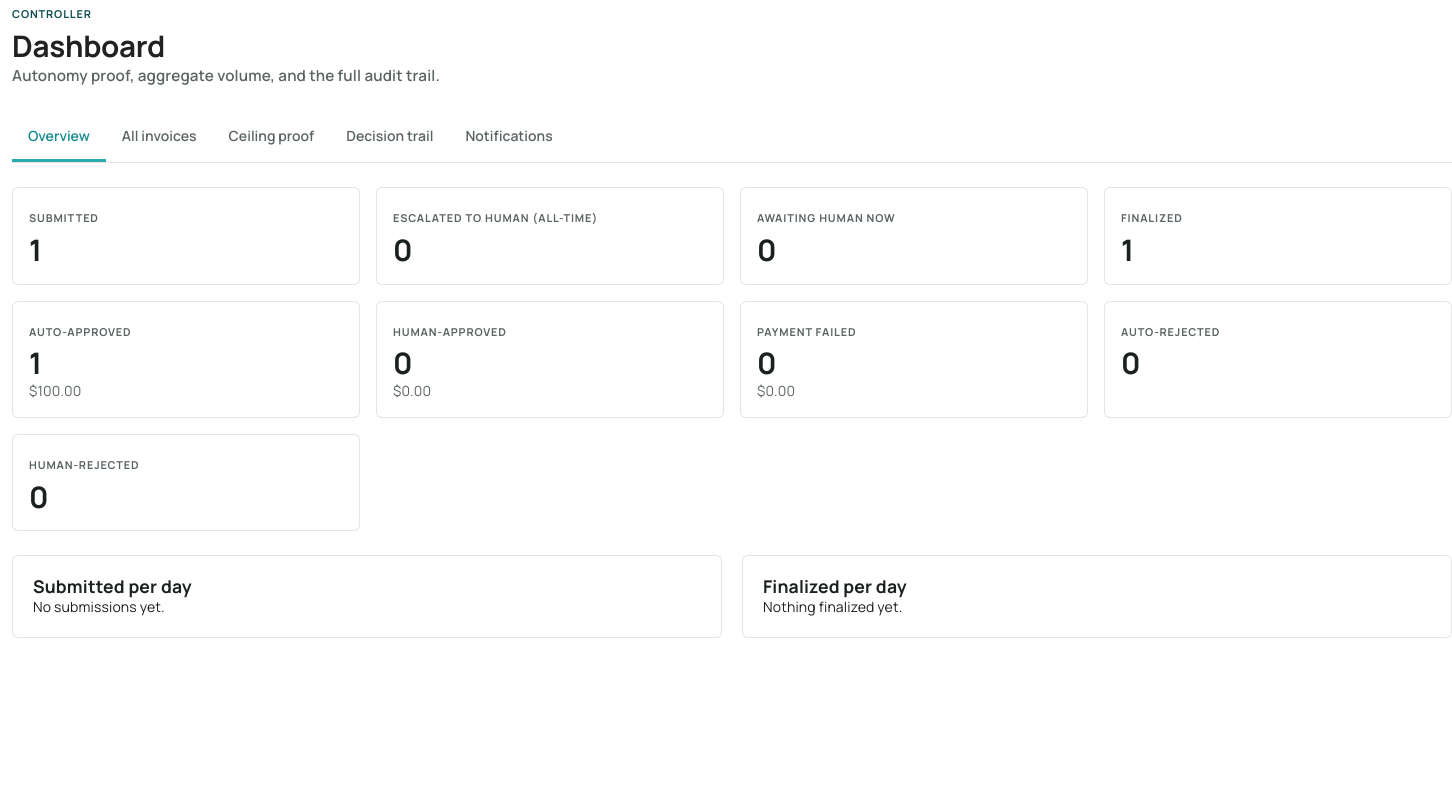
Test: ControllerDashboard › switches to the all invoices panel
The width and height of the screenshot is (1452, 810).
Click the tab "All invoices".
click(159, 136)  # box [106, 110, 213, 162]
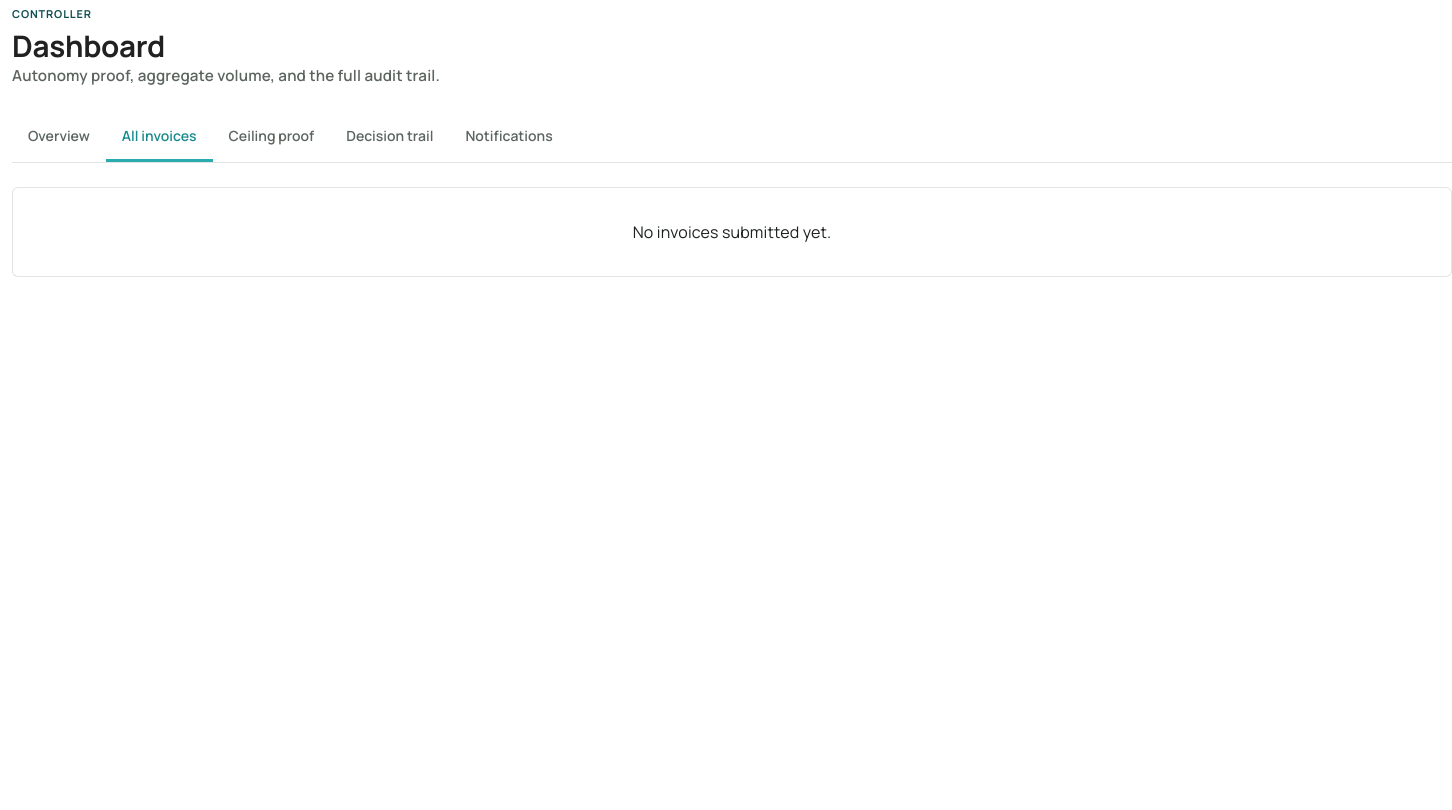
Check: the text "No invoices submitted yet." is shown, box [633, 221, 831, 243]
